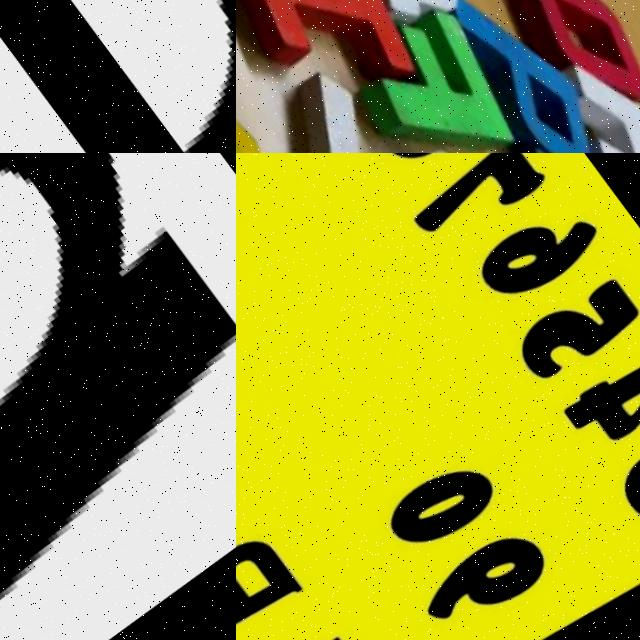0: (367, 420, 531, 577)
3: (602, 380, 640, 543)
4: (545, 291, 640, 475)
5: (501, 240, 640, 404)
6: (466, 162, 634, 322)
7: (387, 153, 572, 274)
8: (354, 153, 525, 193)
9: (401, 491, 574, 640)
F: (346, 0, 537, 153)
H: (533, 37, 640, 153)
I: (236, 0, 426, 124)
N: (0, 153, 236, 640)
O: (484, 0, 640, 129)
X: (236, 70, 403, 153)
Z: (256, 22, 535, 153)
